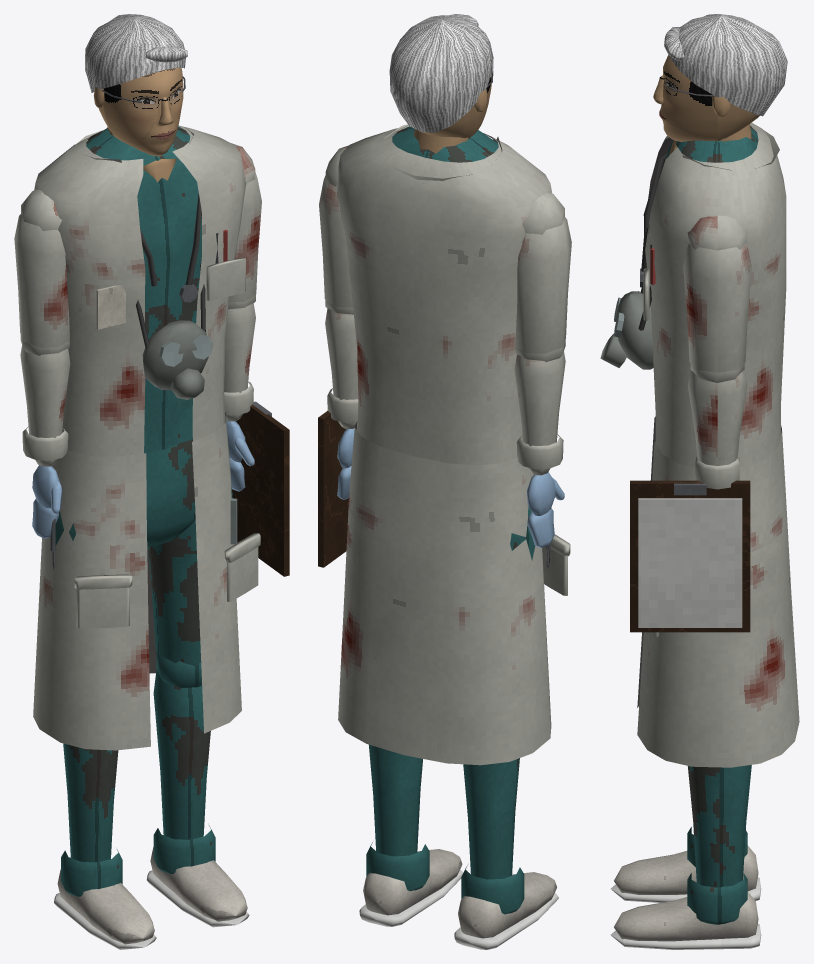
Rendered from char_julian.glb.
3 renders of one model, left to right at view 1: azimuth 30°, elevation 25°; view 2: azimuth 150°, elevation 25°; view 3: azimuth 270°, elevation 25°, orthographic. The views are drawn at different scales.
Parts seen in each view (by area): view 1: Spine, Hips, Head, ShinL, HandL, ShinR, UpperArmR, ThighL, ForearmR, FootL, FootR, ForearmL (+2 smaller); view 2: Hips, Spine, Head, UpperArmR, ShinR, ShinL, ForearmR, HandL, FootL, FootR, ForearmL, UpperArmL (+1 smaller); view 3: Spine, Hips, HandL, Head, UpperArmL, ShinL, ForearmL, FootL, FootR.
Boxes of the visible parts, bbox=[...] form: Spine: bbox=[34, 125, 246, 456]; Hips: bbox=[33, 413, 260, 750]; Head: bbox=[85, 14, 187, 156]; ShinL: bbox=[153, 651, 215, 874]; HandL: bbox=[226, 401, 289, 576]; ShinR: bbox=[61, 743, 122, 896]; UpperArmR: bbox=[14, 189, 69, 347]; ThighL: bbox=[147, 487, 232, 665]; ForearmR: bbox=[20, 335, 70, 466]; FootL: bbox=[146, 847, 249, 927]; FootR: bbox=[54, 869, 156, 949]; ForearmL: bbox=[224, 295, 255, 421]; Hips: bbox=[338, 421, 570, 765]; Spine: bbox=[336, 124, 551, 465]; Head: bbox=[389, 14, 493, 153]; UpperArmR: bbox=[515, 191, 571, 353]; ShinR: bbox=[461, 758, 524, 914]; ShinL: bbox=[366, 744, 429, 891]; ForearmR: bbox=[514, 340, 565, 475]; HandL: bbox=[318, 410, 354, 567]; FootL: bbox=[359, 849, 462, 926]; FootR: bbox=[454, 872, 558, 949]; ForearmL: bbox=[325, 300, 358, 428]; UpperArmL: bbox=[319, 145, 352, 307]; Spine: bbox=[600, 122, 786, 467]; Hips: bbox=[637, 416, 799, 767]; HandL: bbox=[630, 480, 750, 632]; Head: bbox=[653, 14, 787, 141]; UpperArmL: bbox=[683, 215, 751, 372]; ShinL: bbox=[687, 765, 751, 924]; ForearmL: bbox=[687, 363, 747, 489]; FootL: bbox=[611, 892, 761, 949]; FootR: bbox=[611, 845, 761, 902].
Size of the model in its own units: 0.5166 by 1.82 by 0.3643.
17 materials, 17 textured.
